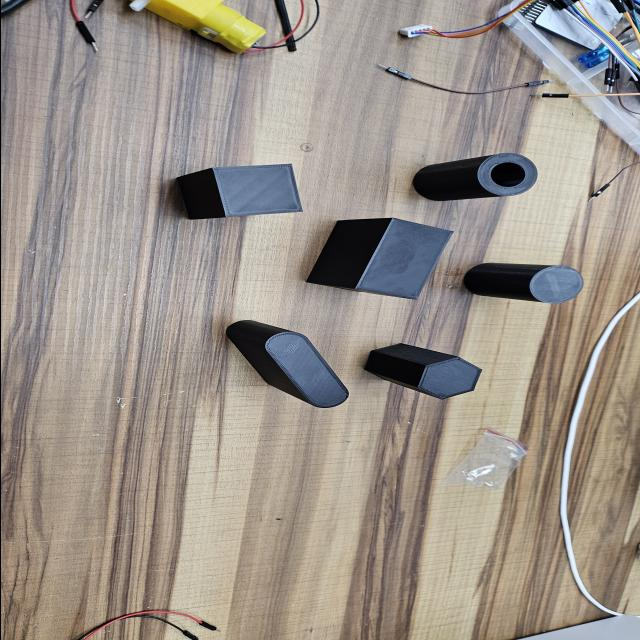circle: (529, 265, 583, 305)
hexagon: (408, 354, 487, 403)
oval: (255, 325, 356, 412)
rectangle: (353, 219, 454, 300)
ring: (475, 152, 539, 196)
square: (210, 163, 302, 219)
